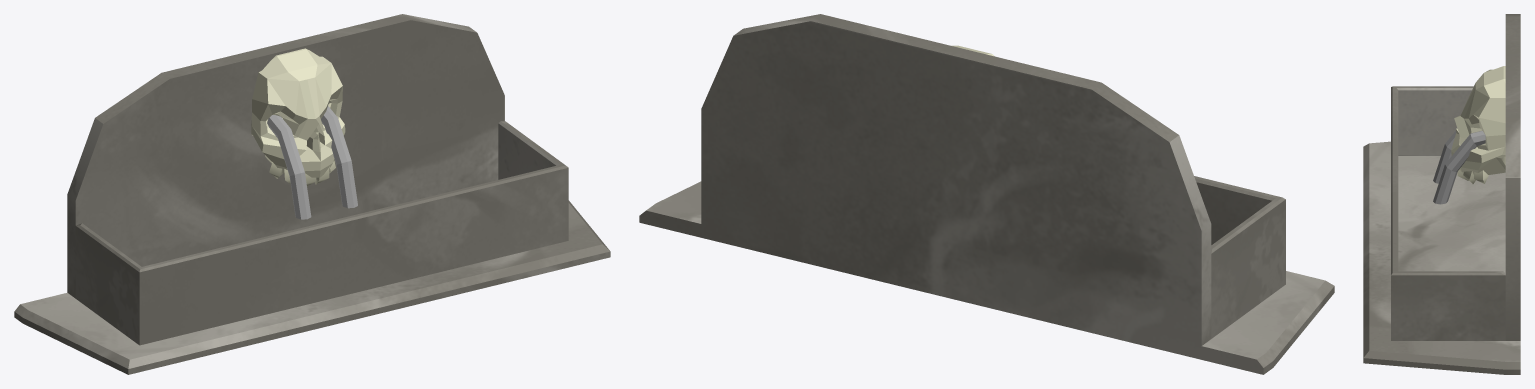
The model's file is Water_Pool.fbx.
3 renders of one model, left to right at view 1: azimuth 30°, elevation 25°; view 2: azimuth 150°, elevation 25°; view 3: azimuth 270°, elevation 25°, orthographic. The views are drawn at different scales.
Parts seen in each view (by area): view 1: Pool_Base, skull, Water_Pour; view 2: Pool_Base; view 3: Pool_Base, skull, Water_Pour.
Part boxes in pixels (x1,y1,x2,y2): Pool_Base: [14, 14, 610, 374]; skull: [251, 48, 345, 186]; Water_Pour: [267, 106, 357, 219]; Pool_Base: [639, 14, 1334, 374]; Pool_Base: [1363, 14, 1520, 374]; skull: [1451, 66, 1505, 183]; Water_Pour: [1433, 130, 1485, 204].
Bounding box in the file's own units: 14.77 × 5.5 × 4.18.
